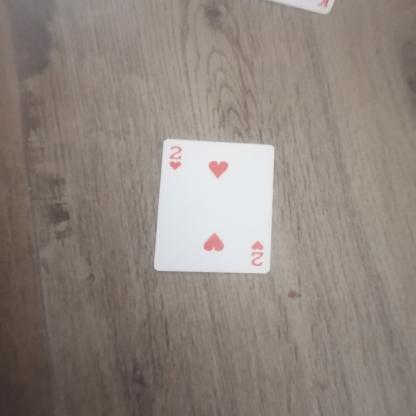2H: (160, 144, 203, 176), (240, 238, 271, 270)
